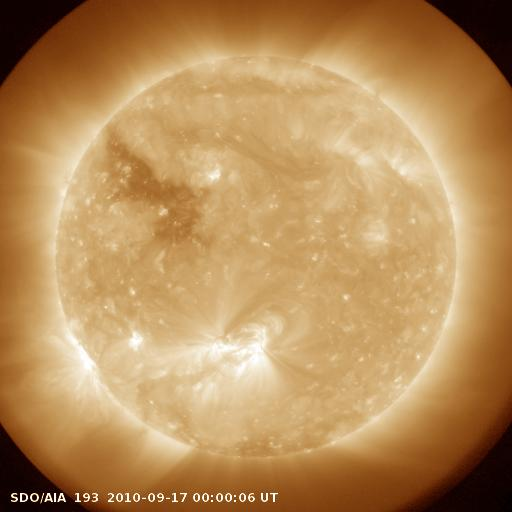coronal_hole: (102, 121, 209, 244)
